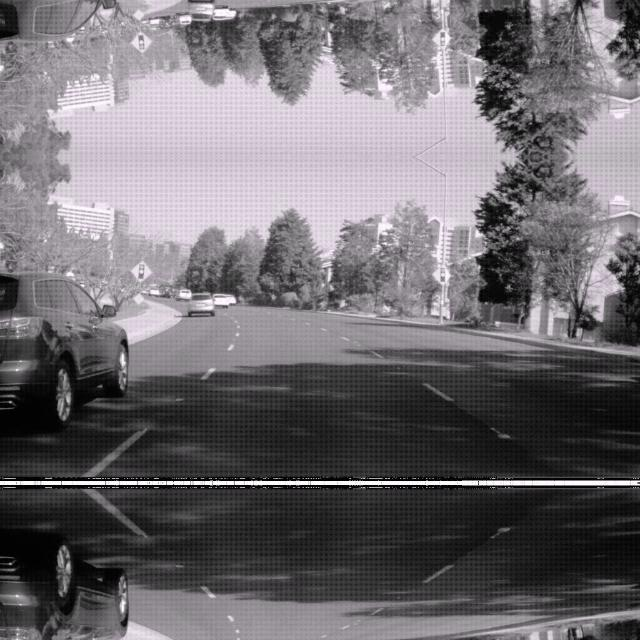signalAhead: (128, 258, 152, 282), (128, 31, 152, 54), (430, 262, 450, 284), (430, 28, 450, 50)
